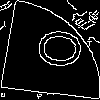O: (25, 25, 85, 71)
